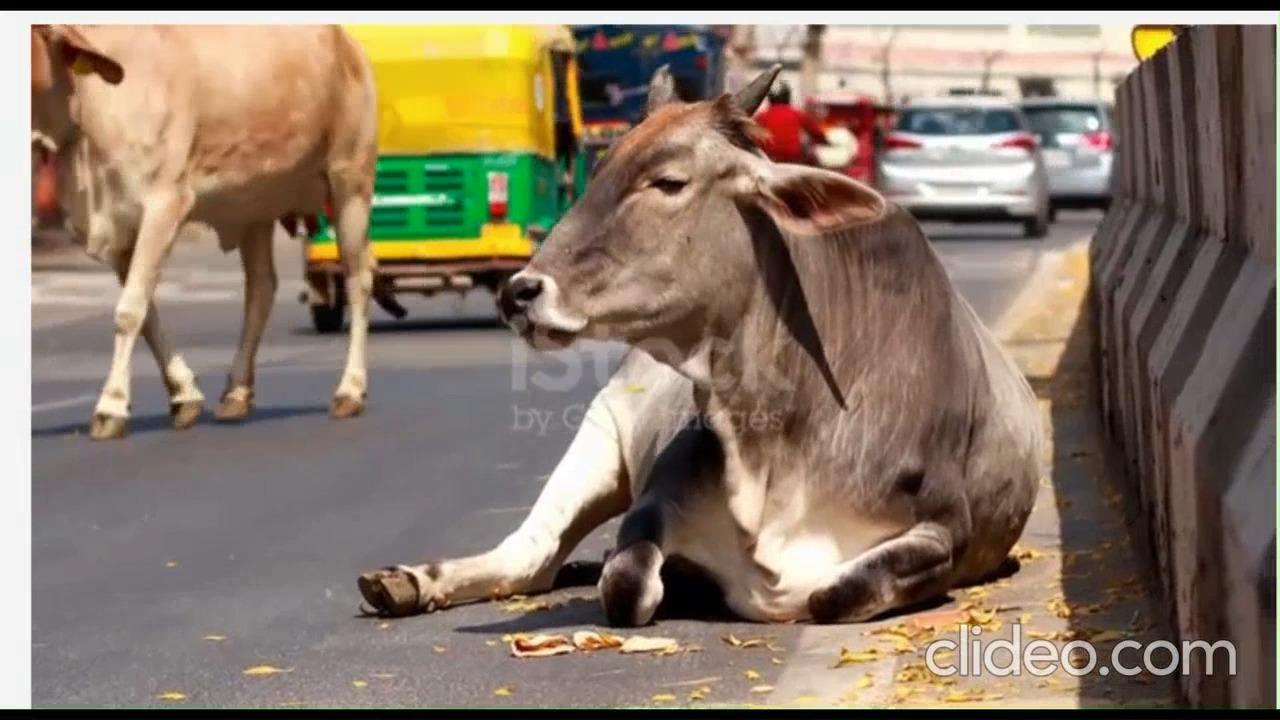Cow: (376, 54, 1064, 605), (37, 27, 378, 421)
